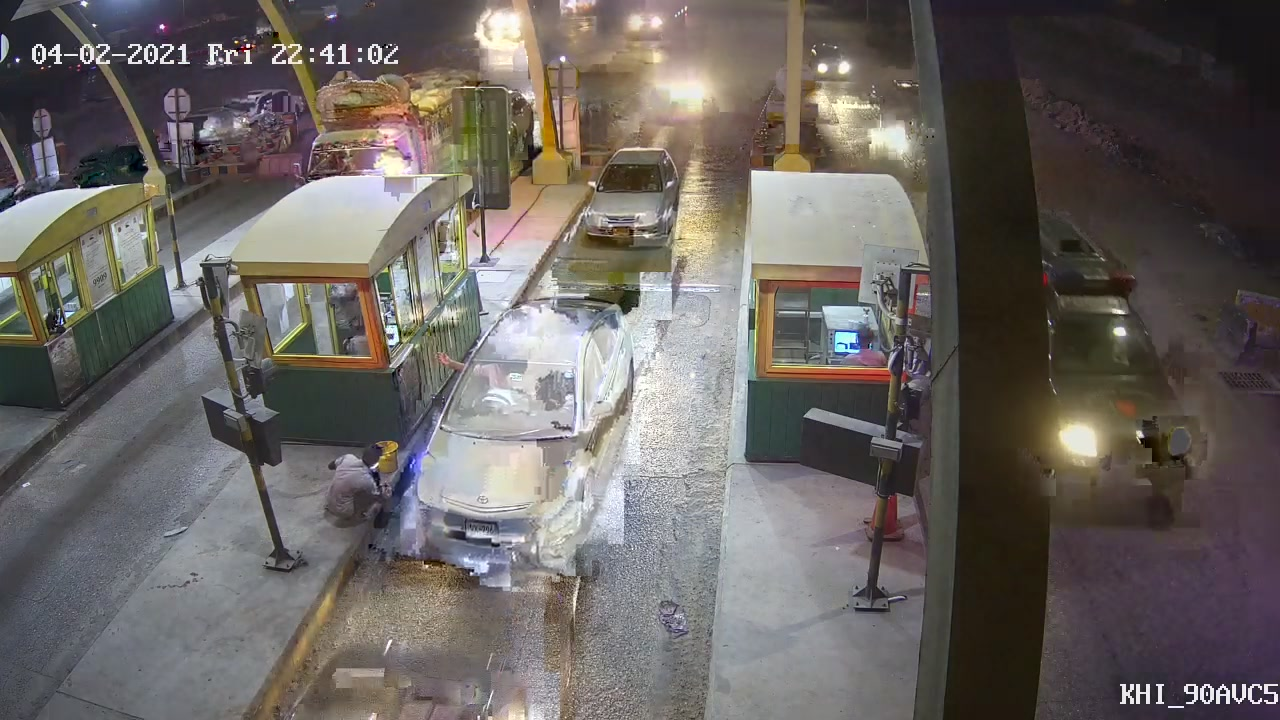F1: (584, 144, 688, 246)
